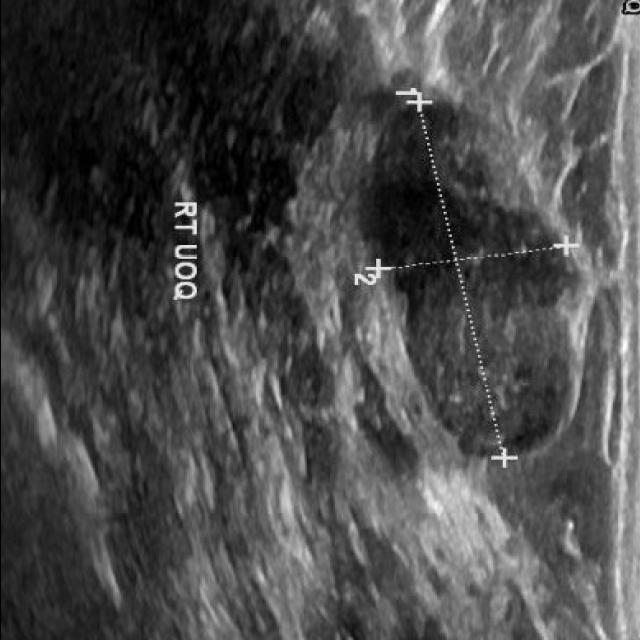Benign: (393, 218, 573, 460)
